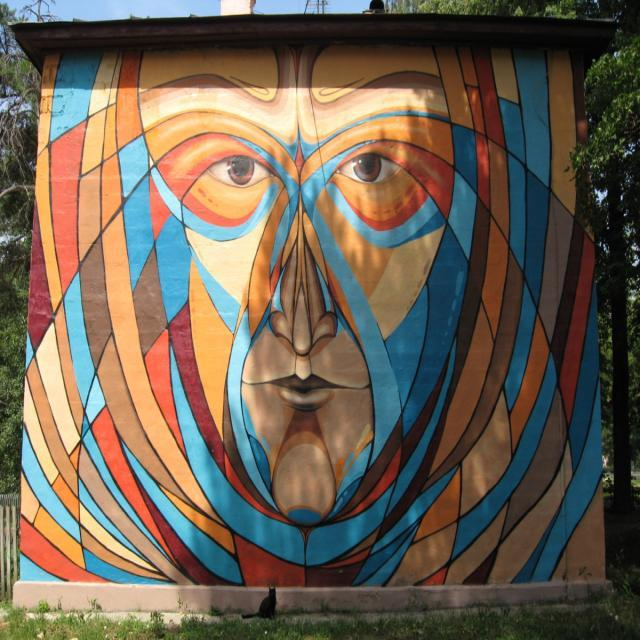-: (18, 46, 600, 580)
